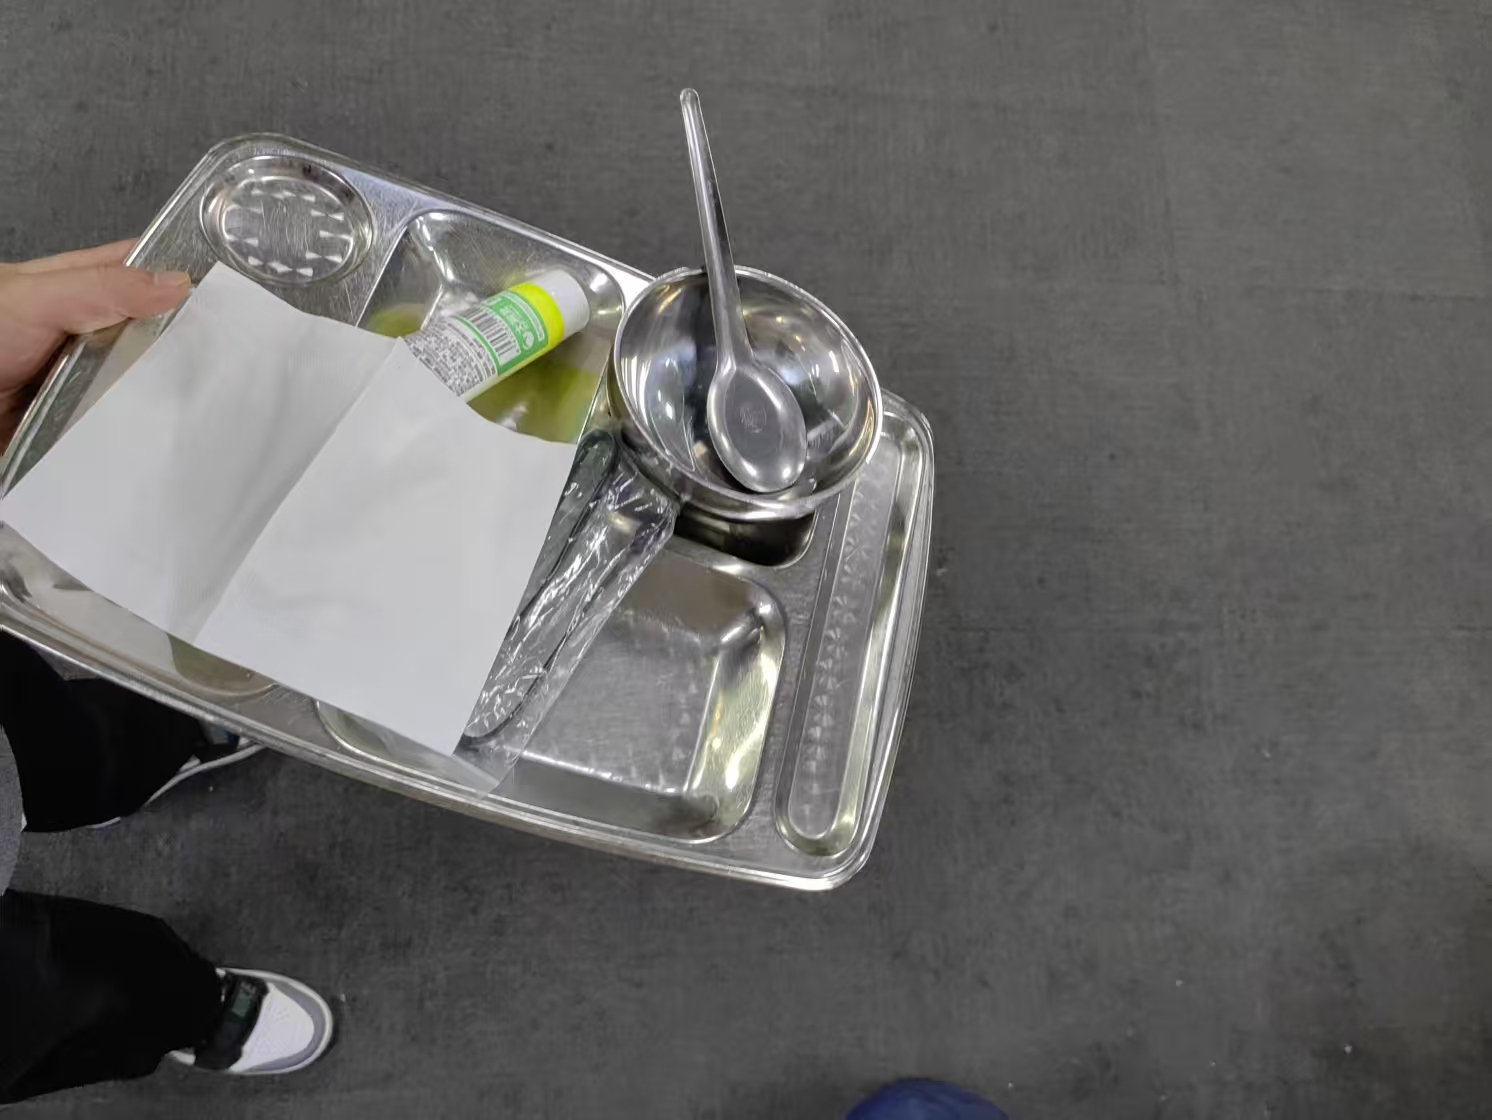mild: (250, 268, 594, 485)
plate: (4, 134, 933, 890)
tissue: (21, 285, 577, 751)
